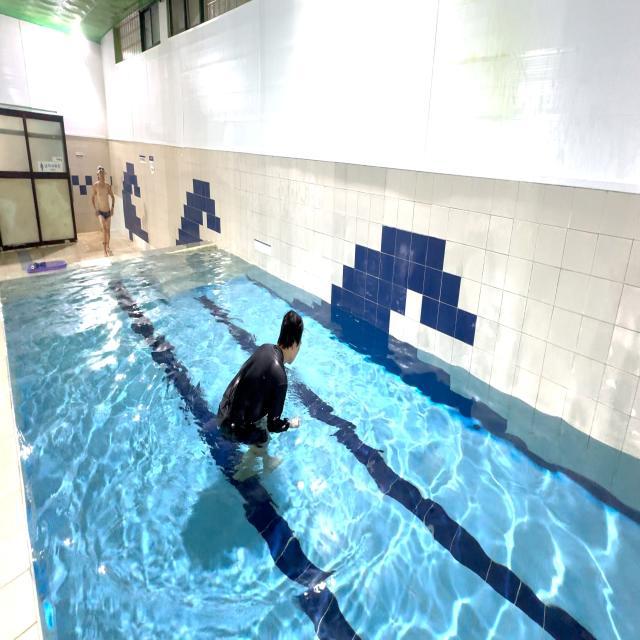Swimming: (218, 306, 303, 489)
